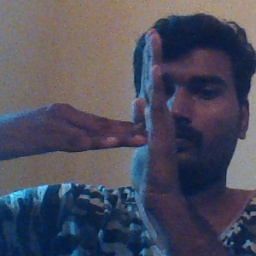Z: (67, 25, 180, 207)
